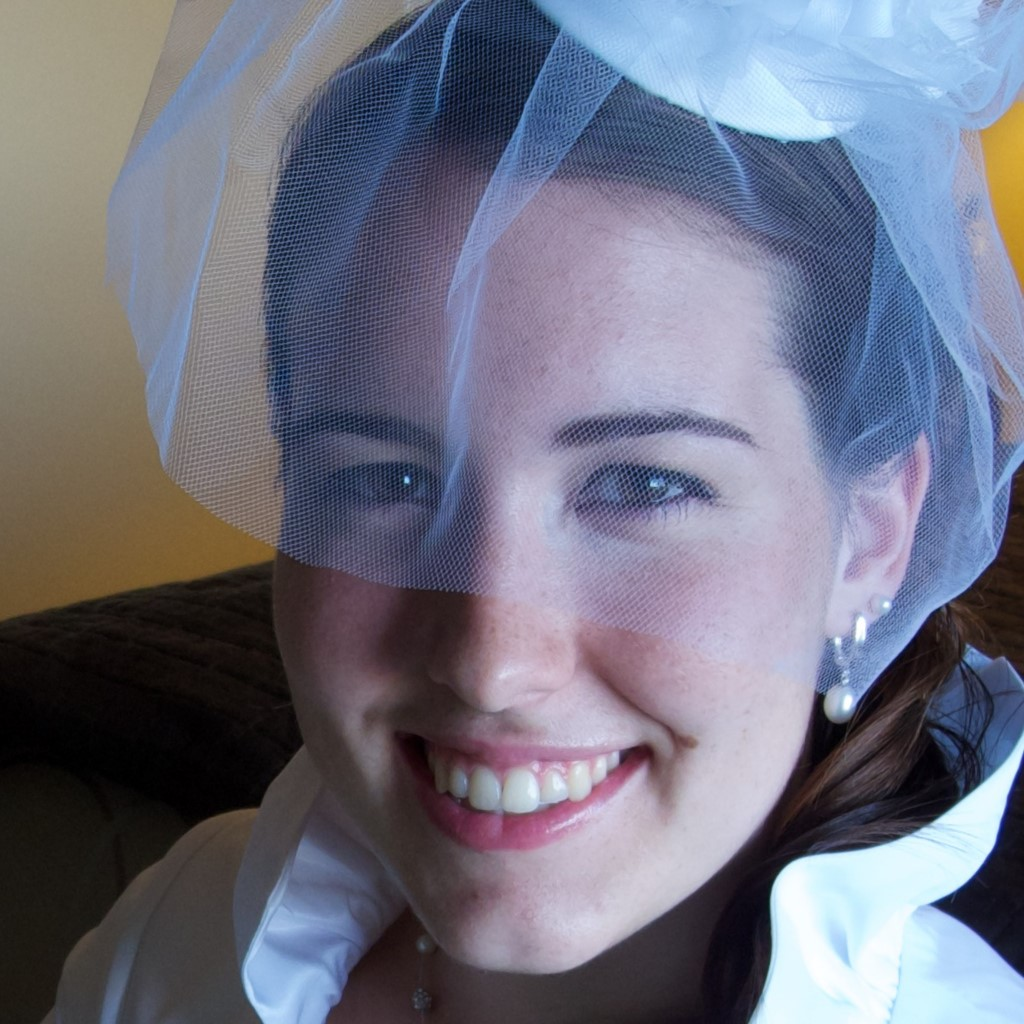sin_mascara: (261, 115, 889, 976)
